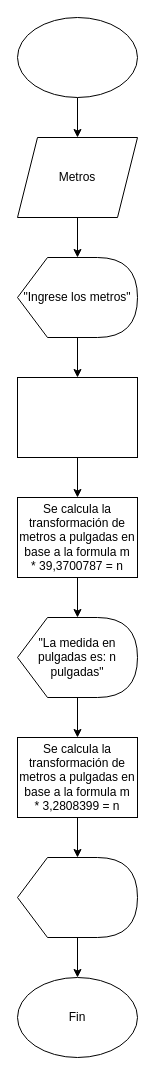
Image size: 155x1075. Some labels were removed from this diagram. Here are the shapes that lost their labels. From the top down, the centre of each, then its label:
(x=77, y=57): Inicio
(x=77, y=417): Digitar la cantidad de metros a transformar
(x=77, y=897): "La medida en pies es: n pies"
